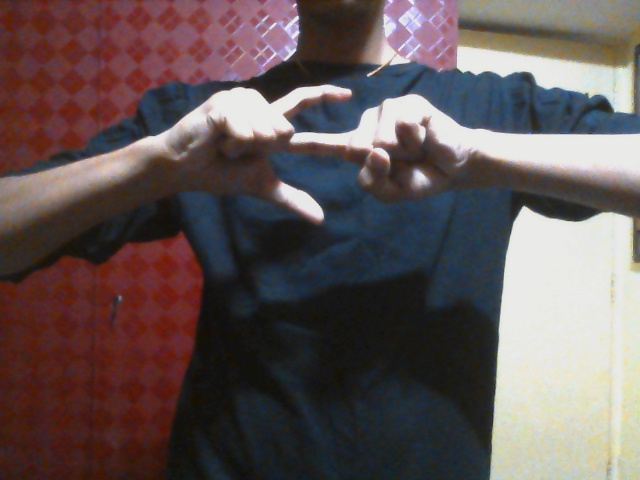E: (190, 82, 480, 229)
